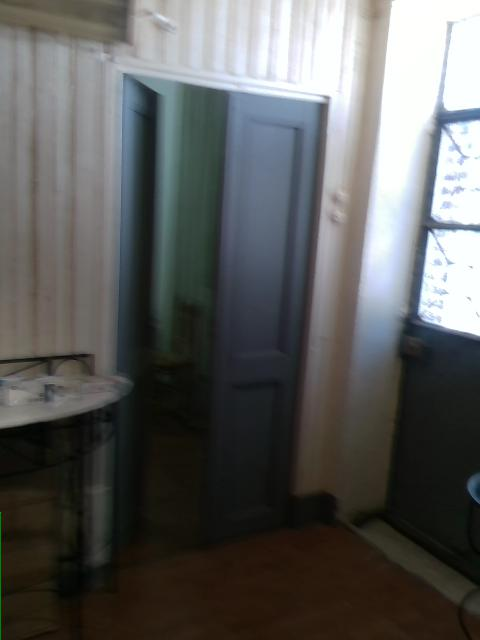semi_door: (108, 69, 331, 564)
